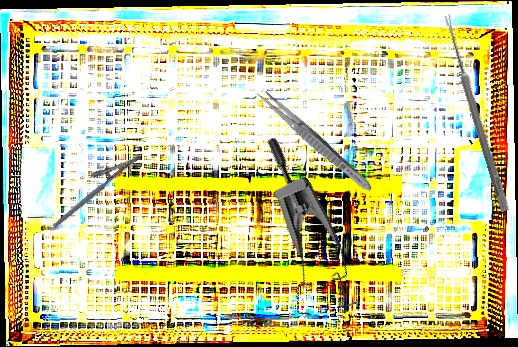Dressing Forceps: (253, 85, 376, 196)
Needle Holder: (42, 142, 143, 229)
Speculum: (204, 135, 385, 335)
Surgical Spoon: (441, 13, 511, 213)
